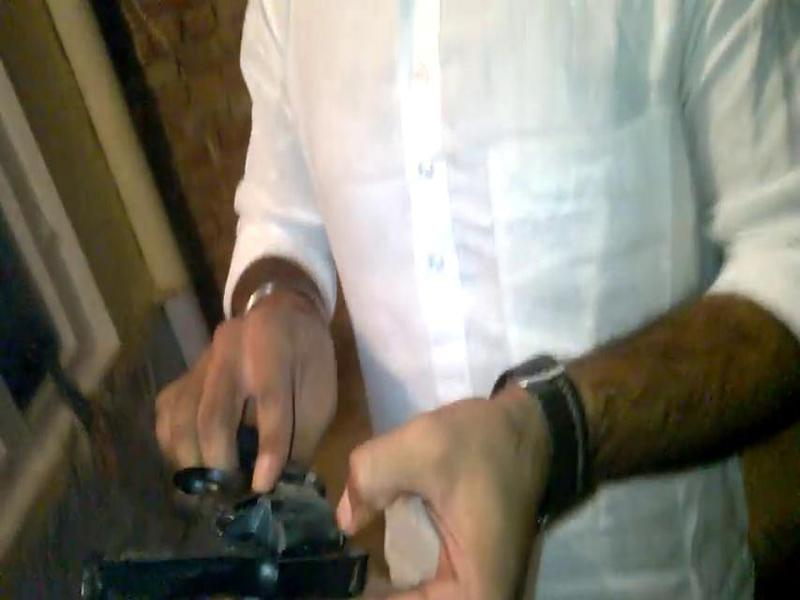Revolver: (69, 420, 437, 600)
